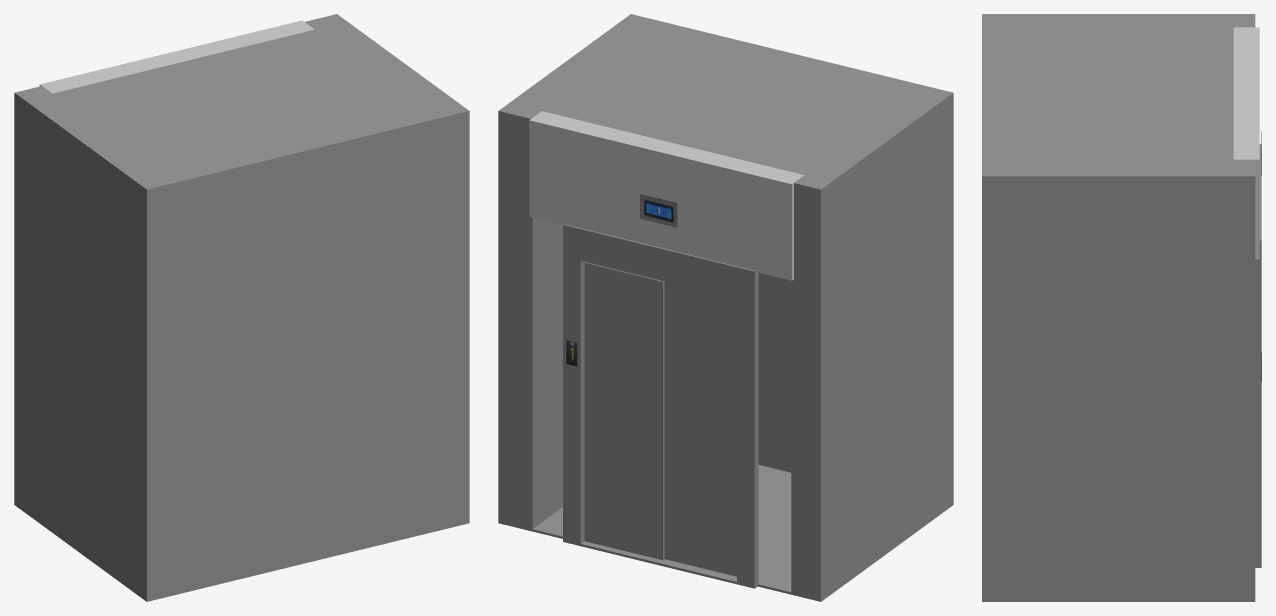
Rendered from lift.dae.
The picture shows the model from 3 angles, left to right: view 1: azimuth 30°, elevation 25°; view 2: azimuth 150°, elevation 25°; view 3: azimuth 270°, elevation 25°; orthographic projection. The views are drawn at different scales.
Visible parts, largest first — view 1: Lift; view 2: Lift; view 3: Lift.
Boxes of the visible parts, box(x1,y1,x2,y2) form: Lift: box(14, 14, 469, 601); Lift: box(498, 14, 953, 601); Lift: box(982, 14, 1261, 601).
Bounding box in the file's own units: 2.46 × 1.79 × 3.01.
4 materials, 2 textured.
